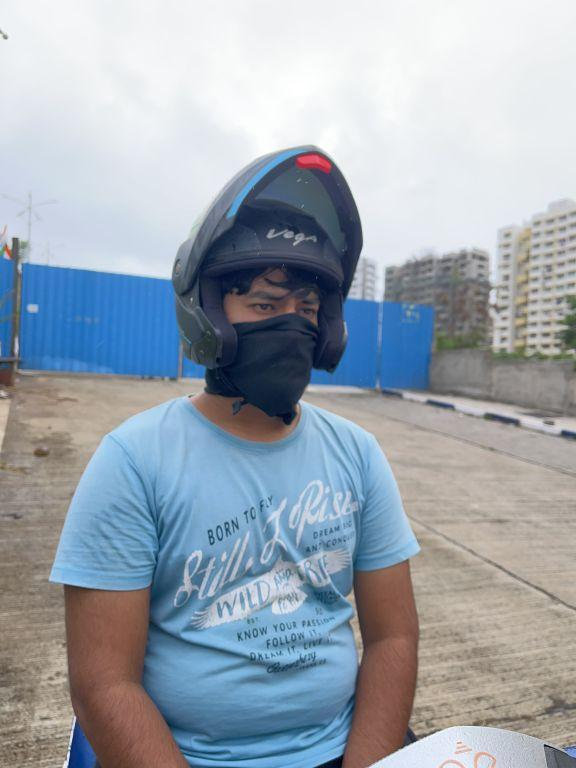helmet: (160, 132, 368, 407)
